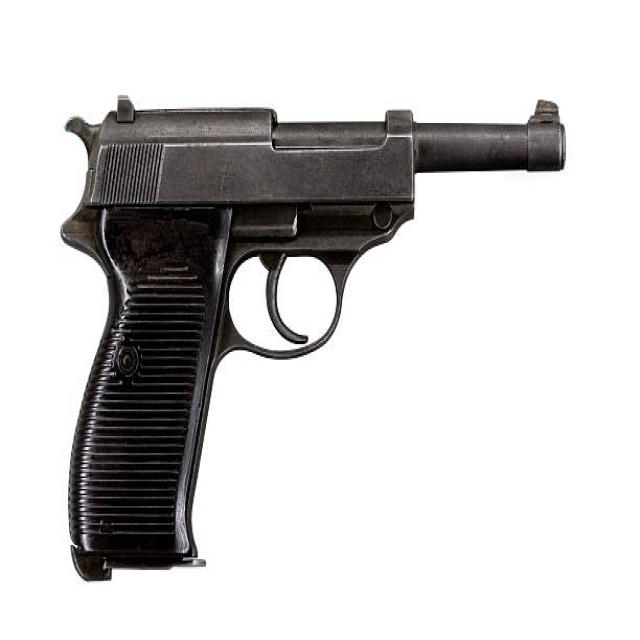pistol: (56, 88, 577, 582)
